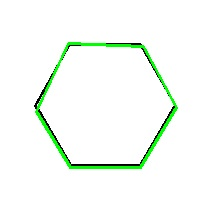line_segment: (34, 42, 177, 168)
